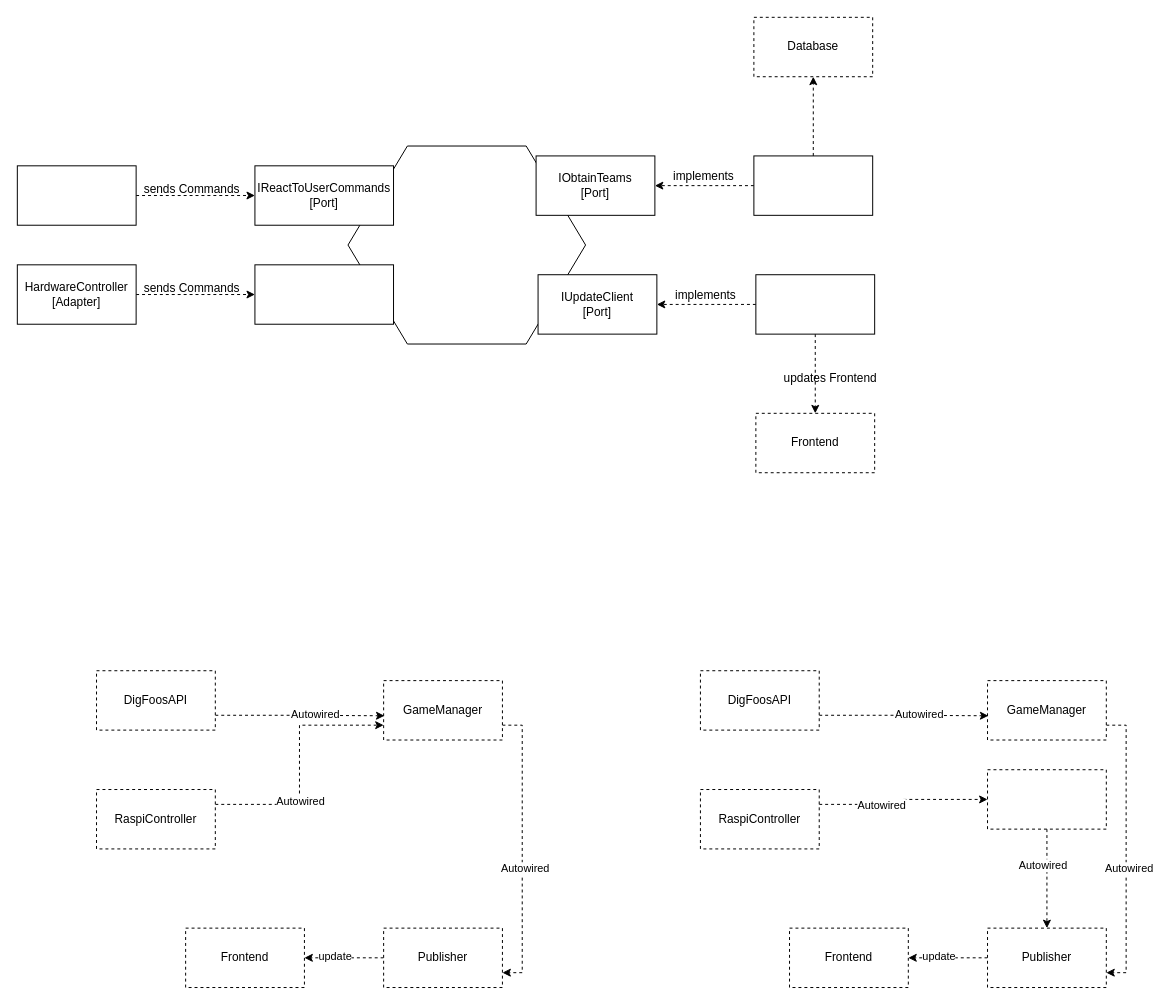
This 1170x1005 diagram has some shape labels left out. Here are the shapes that lost their labels. From the top down, the centre of each, then its label:
At pixel 76 195: "UserController [Adapter]".
At pixel 813 185: "RepositoryAdapter [Adapter]".
At pixel 466 244: "Application & Business Logic".
At pixel 324 294: "IReactToGoals [Port]".
At pixel 815 304: "Publisher [Adapter]".
At pixel 1046 799: "ScoreManager".
